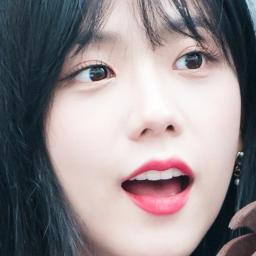face: (57, 0, 233, 256)
